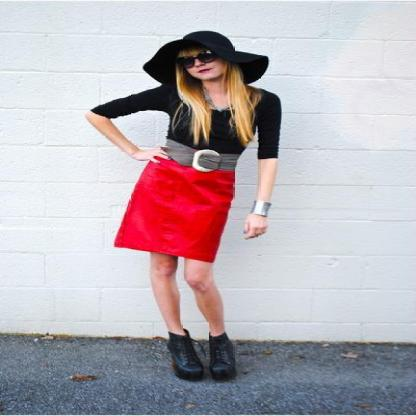hat: (143, 31, 268, 85)
shirt: (90, 78, 281, 158)
shoe: (168, 329, 236, 382)
skirt: (114, 156, 234, 262)
sunglass: (187, 49, 221, 67)
